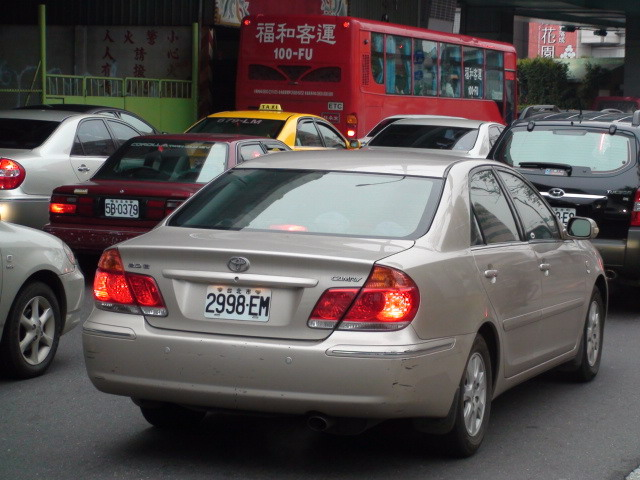plate: (205, 281, 272, 325), (103, 197, 141, 220)
